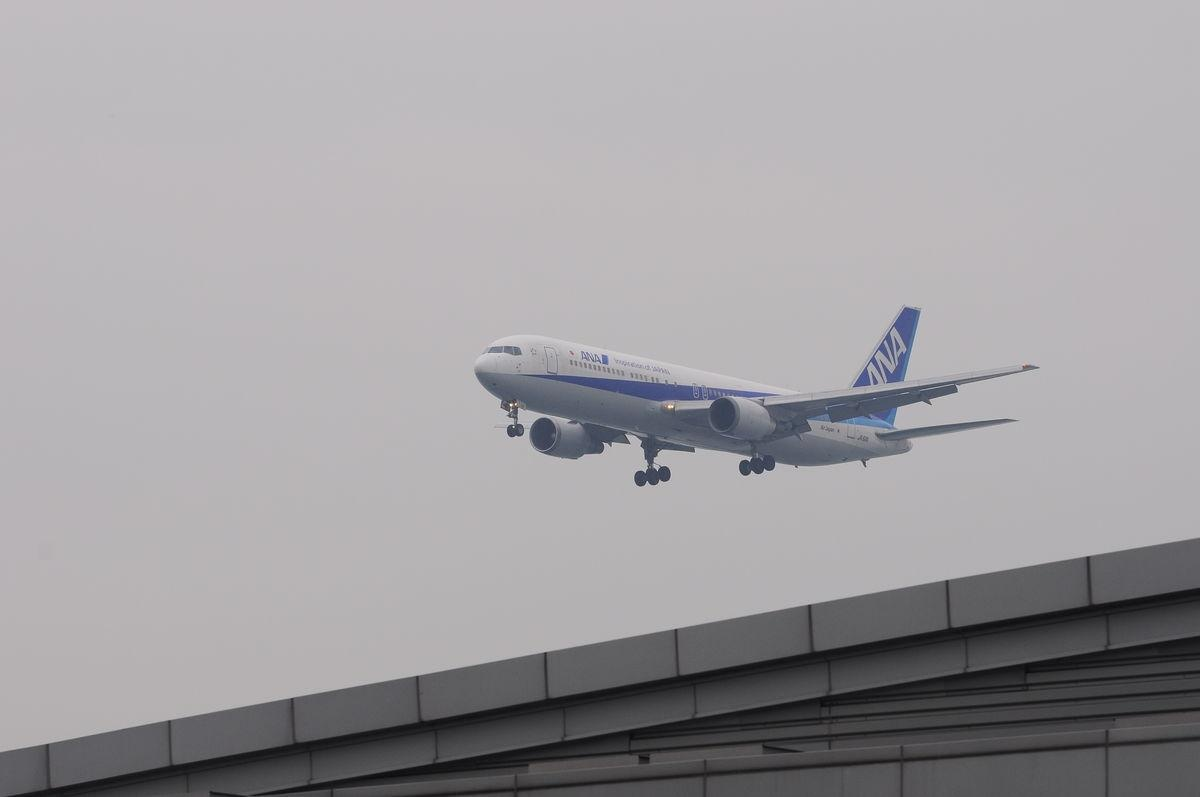airplane: (462, 301, 1067, 489)
